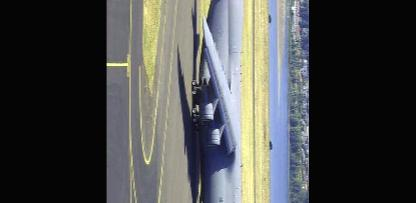C17: (192, 0, 292, 202)
